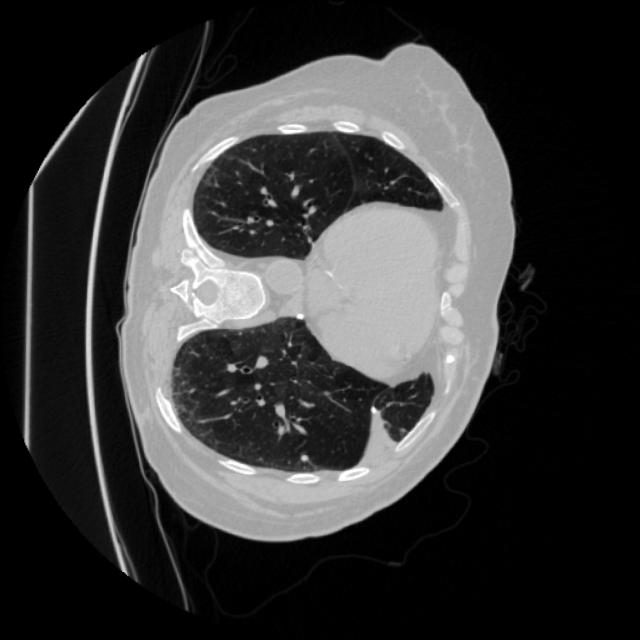nodule: (296, 450, 314, 468)
